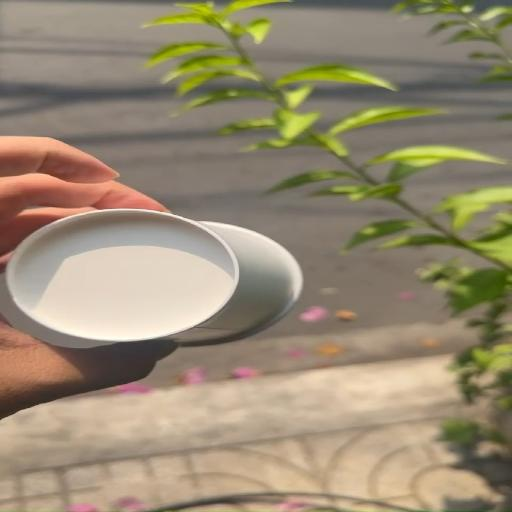Ly_giay: (2, 209, 302, 348)
